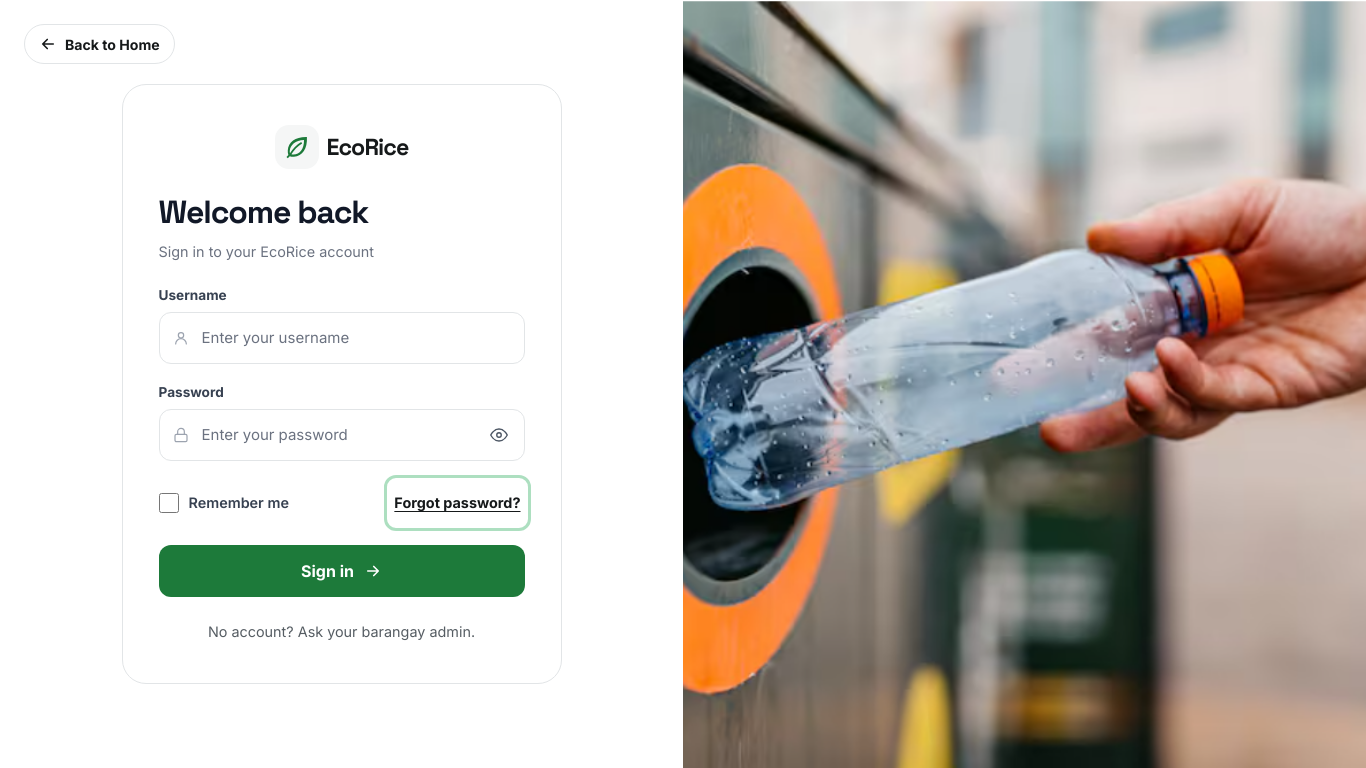
Forgot password? is a keyboard button that reveals help
The image size is (1366, 768).
Click the button "Forgot password?".
click(457, 503)  # box left=390, top=481, right=524, bottom=525
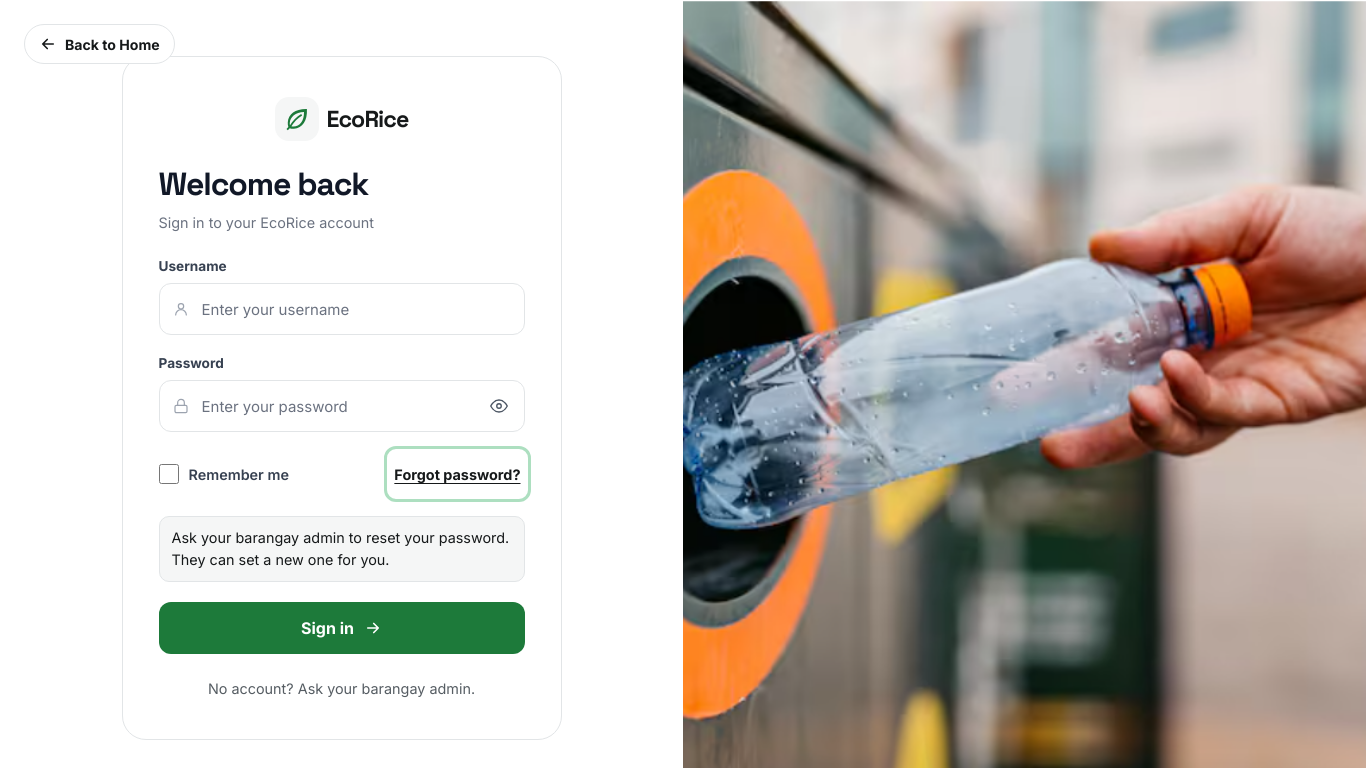
Check: the button "Forgot password?" is expanded, box left=390, top=452, right=524, bottom=496
Check: the text "Ask your barangay admin to reset your password" is shown, box left=172, top=529, right=509, bottom=568
